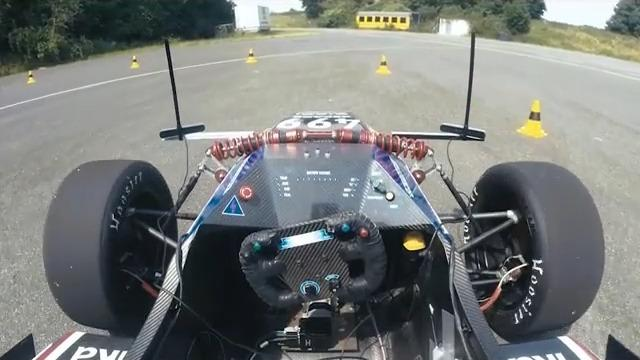yellow_cone: (518, 99, 547, 138), (376, 55, 392, 74), (245, 48, 258, 63), (26, 70, 37, 84), (130, 55, 140, 69)
